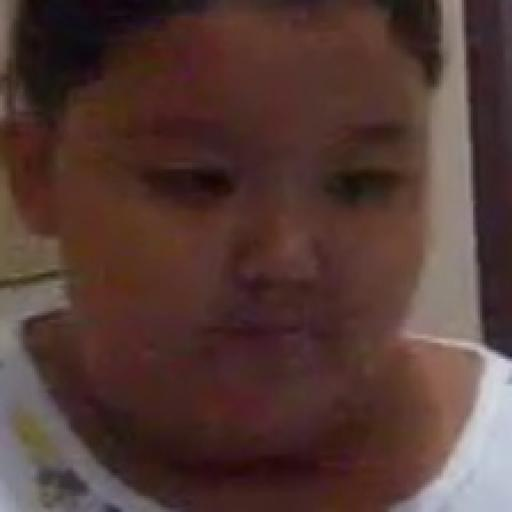Autism: (6, 0, 448, 512)
